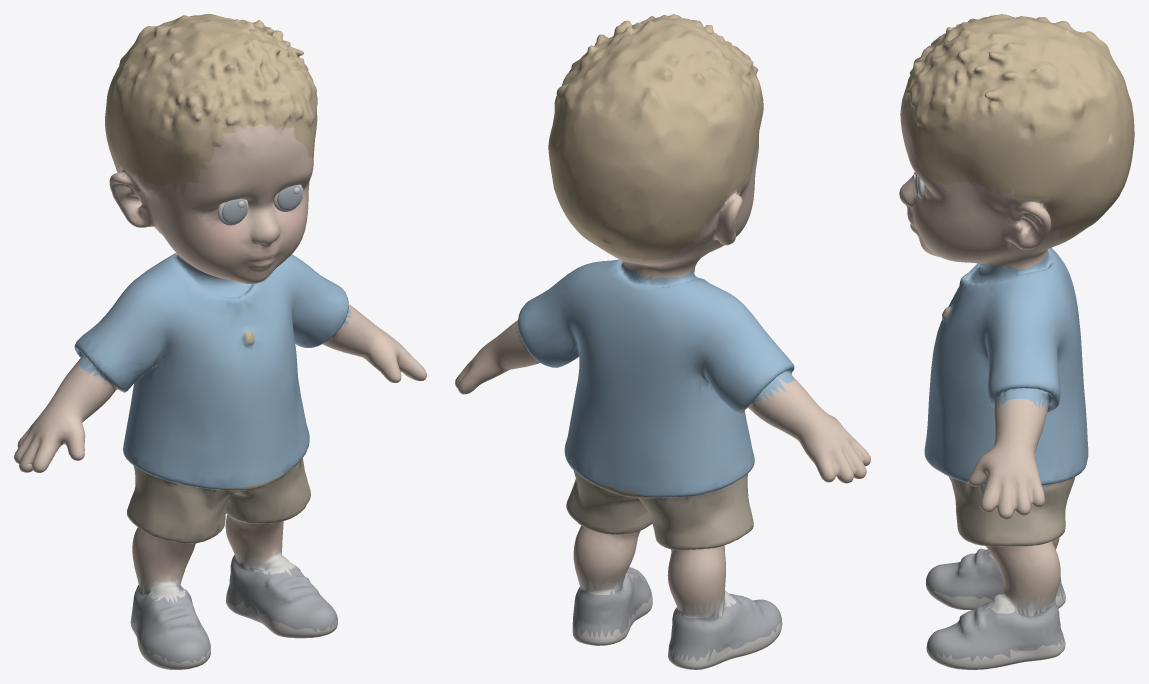
Rendered from avgust_painted.glb.
The picture shows the model from 3 angles, left to right: view 1: azimuth 30°, elevation 25°; view 2: azimuth 150°, elevation 25°; view 3: azimuth 270°, elevation 25°; orthographic projection.
Visible parts, largest first — view 1: Avgust; view 2: Avgust; view 3: Avgust.
Part boxes in pixels (box(x1,y1,x2,y2)): Avgust: box(14, 14, 426, 669); Avgust: box(455, 14, 870, 669); Avgust: box(899, 14, 1134, 669).
Bounding box in the file's own units: 0.7339 × 1.05 × 0.3713.
